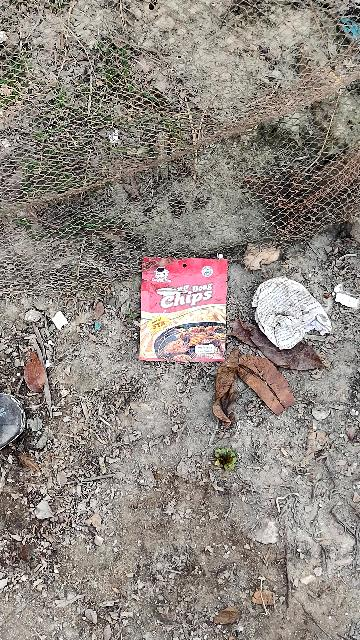packet: (130, 252, 246, 372)
